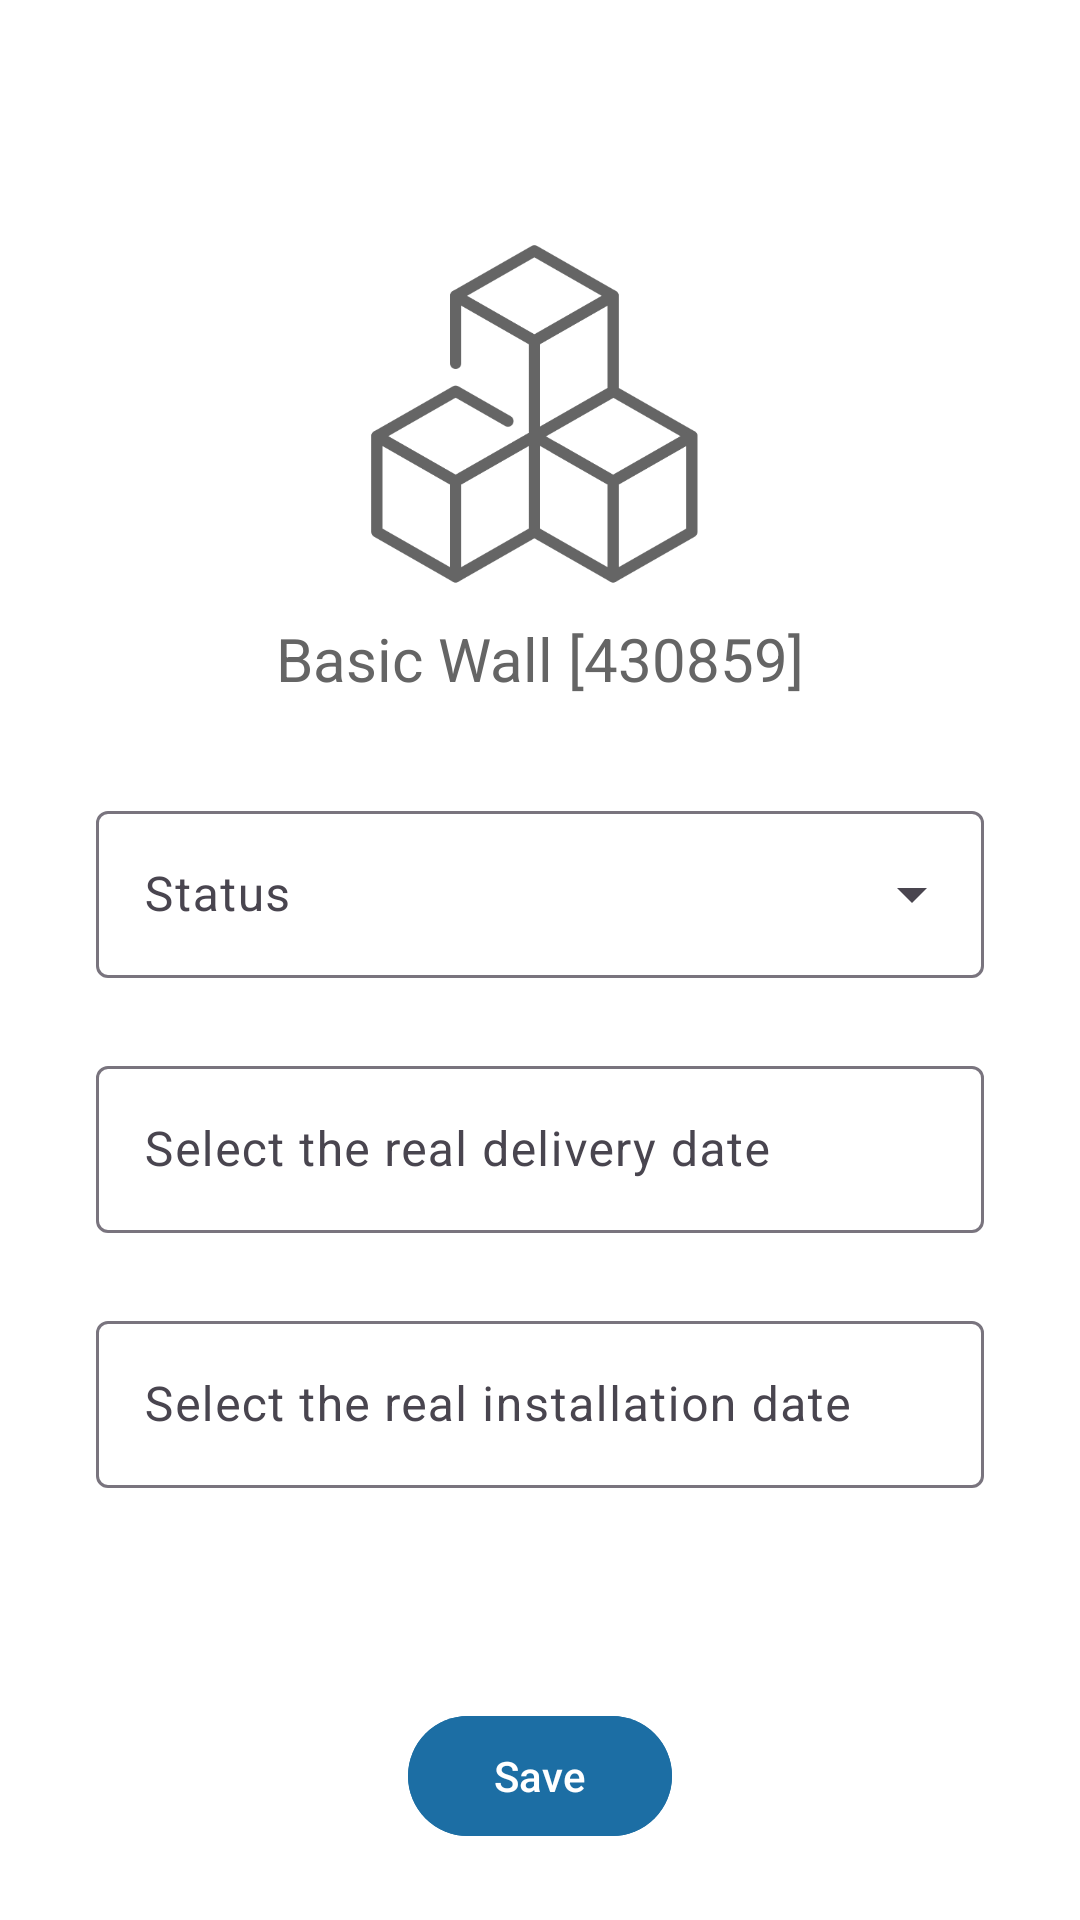

Icon click points for this 1080w x 1920h phone screenshot, format (x=x, y=y):
blocks: (x=534, y=414)
